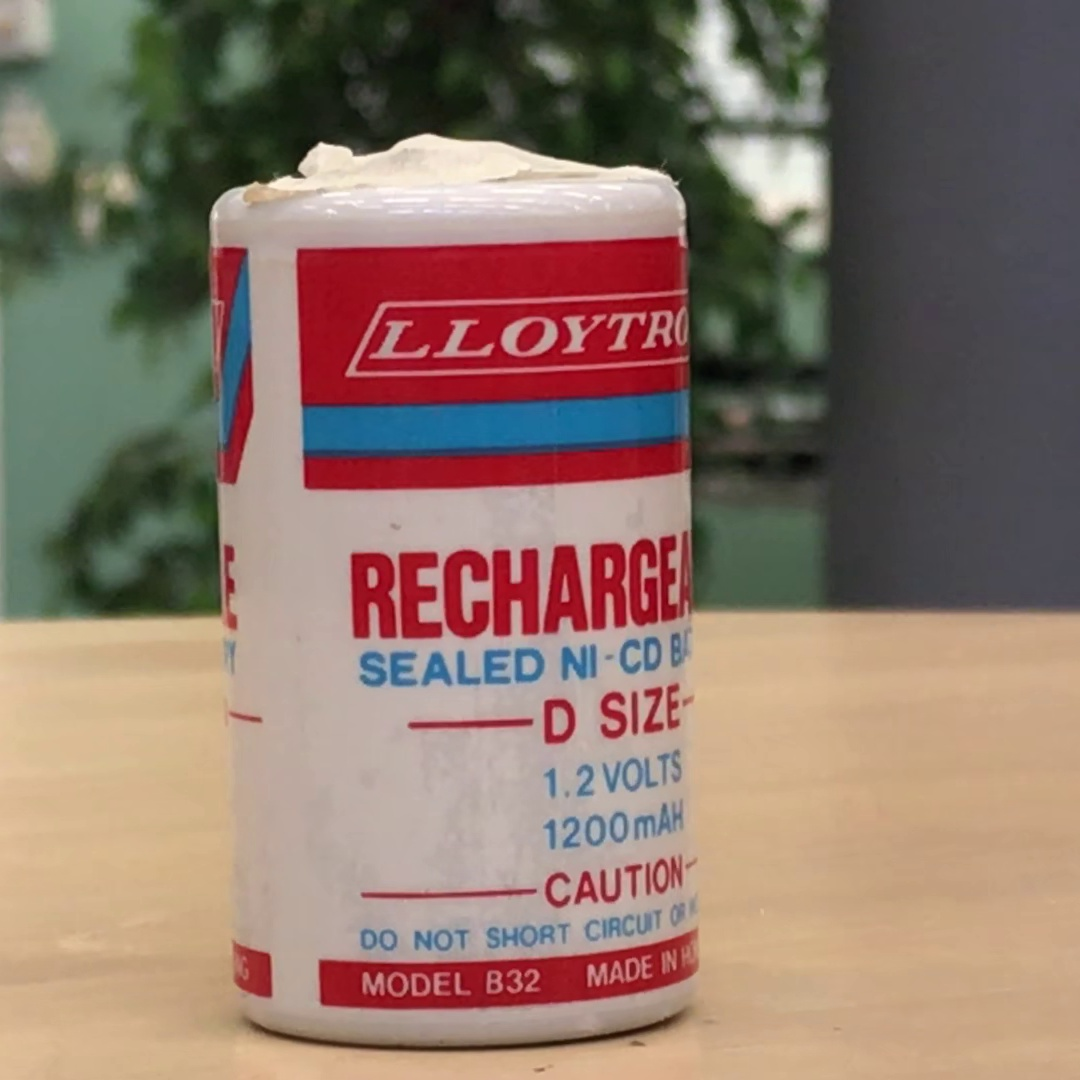keyword: (535, 752, 622, 807)
